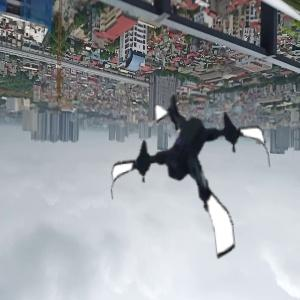drone: (105, 89, 280, 264)
